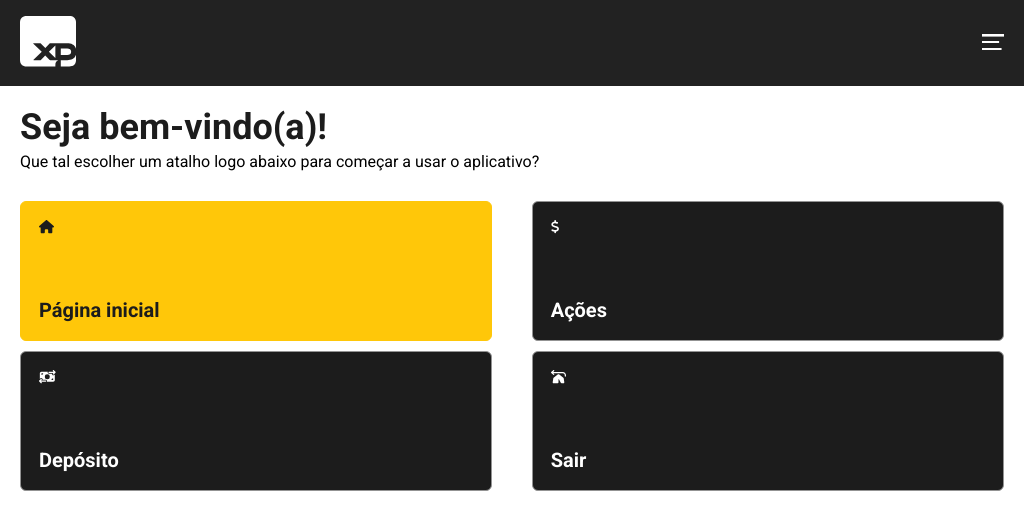
Test case: Verifica se › Ao clicar no card de depósito, é feito o redirecionamento para a página de depósito
The image size is (1024, 508).
Click the button "Depósito".
click(79, 460)  # box [20,351,492,491]
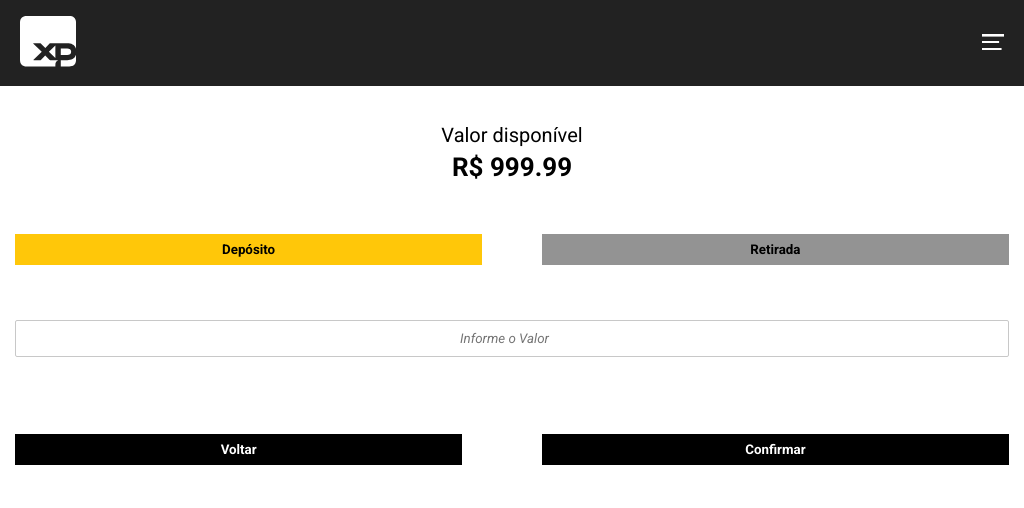
Expected: the button "Depósito" is shown, [15,234,482,265]
Now the button "Retirada" is shown, box [542,234,1009,265]
Now the number field with placeholder "Informe o Valor" is shown, box [15,320,1009,357]
